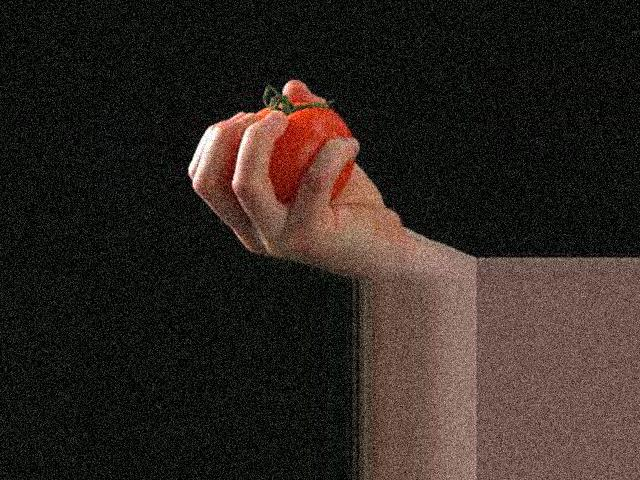tomato: (254, 106, 354, 206)
